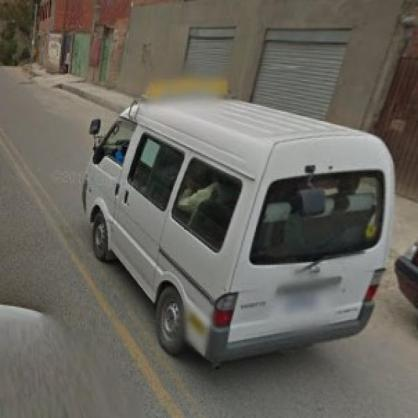car: (82, 93, 397, 369)
